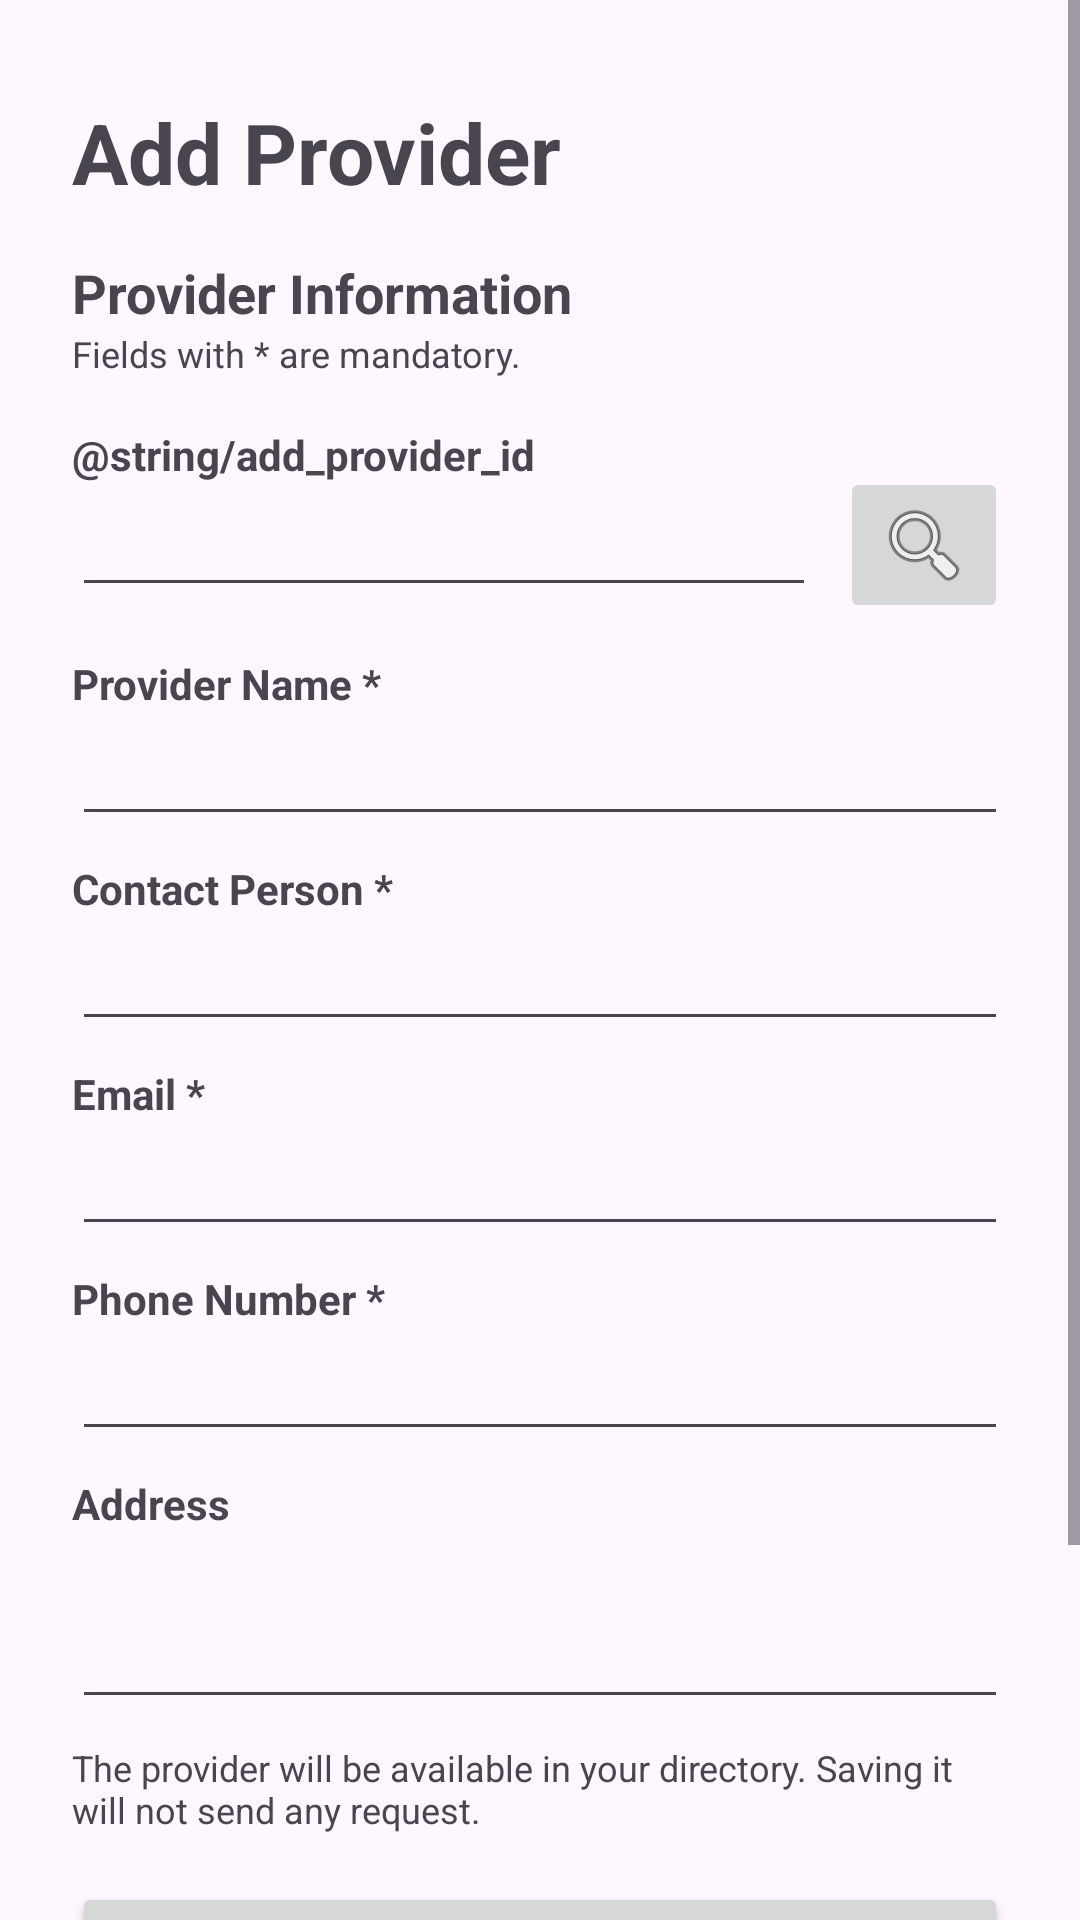

Icons on this 1080*1920 Android screen, each with its box as [x1,y1,x2,y2]:
search: [852,485,996,605]
